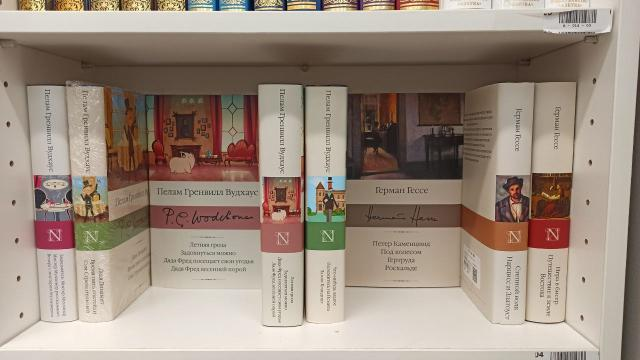book-s-spine: (27, 86, 78, 322), (527, 82, 576, 320), (258, 85, 304, 326), (67, 87, 112, 322), (306, 87, 348, 322), (494, 83, 534, 324)
